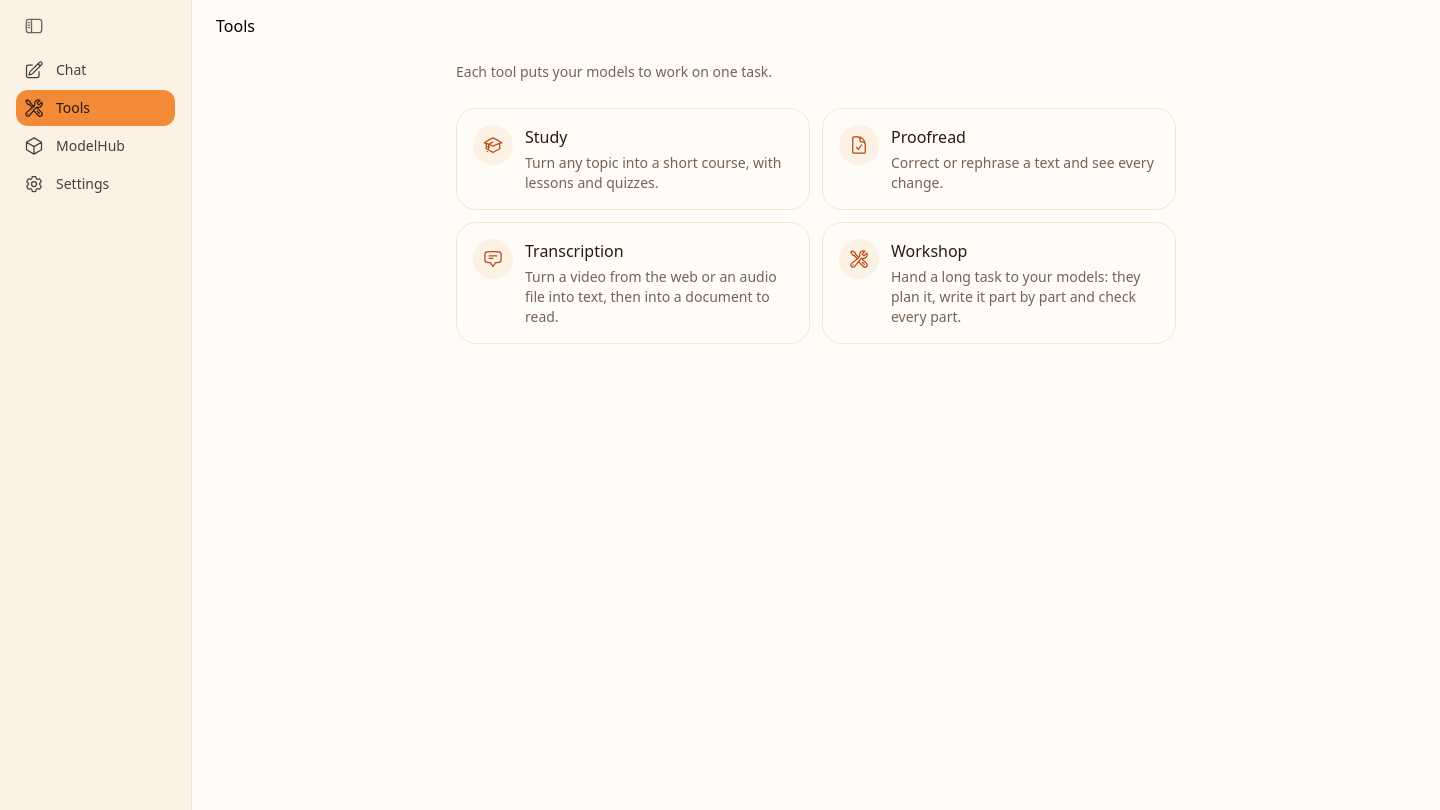
Test: Transcription home › opens from its card on the Tools page, Tools staying highlighted
What coordinates should you click on to do the following:
click the link with test id "tool-card-transcription"
I would click on:
 (633, 283)
Its box is left=456, top=222, right=810, bottom=344.
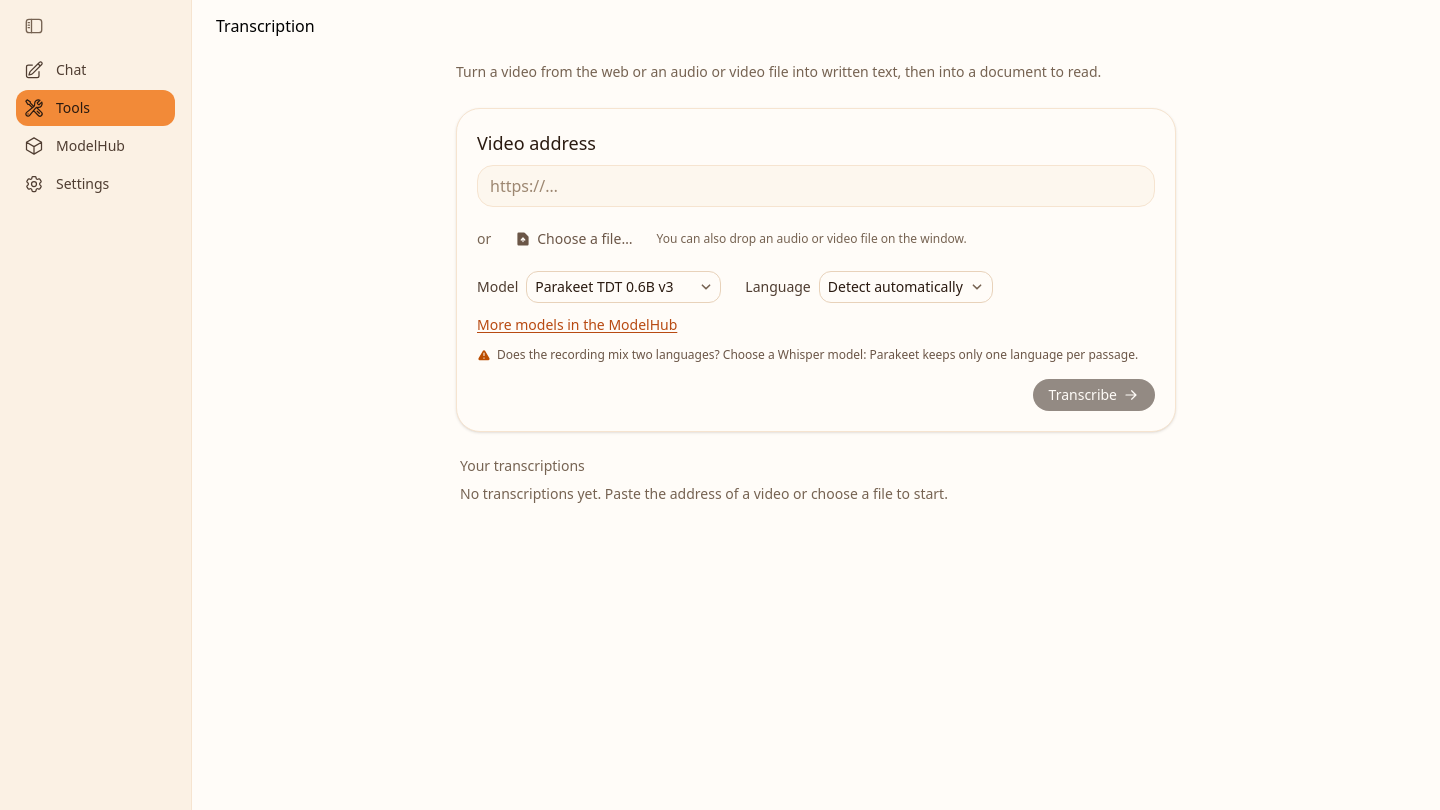
Result: the form with test id "transcription-form" is shown at left=456, top=108, right=1176, bottom=432
Result: the heading "Transcription" is shown at left=216, top=15, right=315, bottom=37
Result: the text with test id "transcription-empty" is shown at left=460, top=484, right=948, bottom=503
